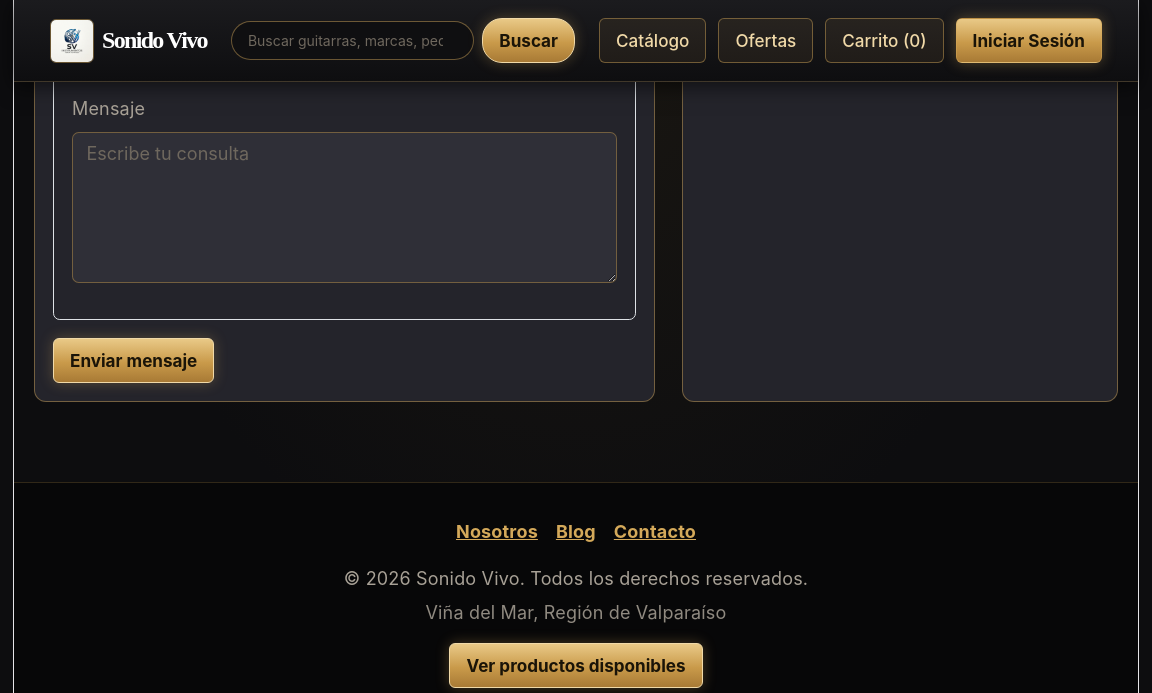
Test: Página Contacto › muestra los errores si se envía vacío
(page scrolled)
Click the button "Enviar mensaje" at (134, 361), box [53,338,214,383]
(page scrolled)
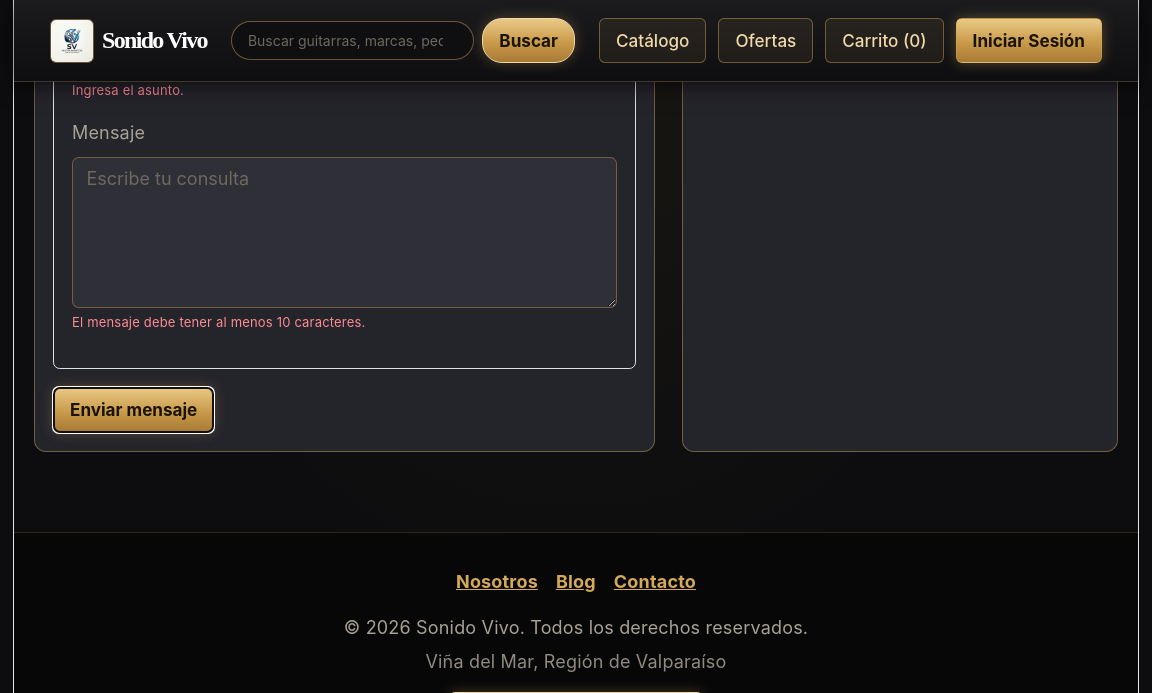
Now the text "El mensaje debe tener al menos 10 caracteres." is shown, box [72,314,365,330]
